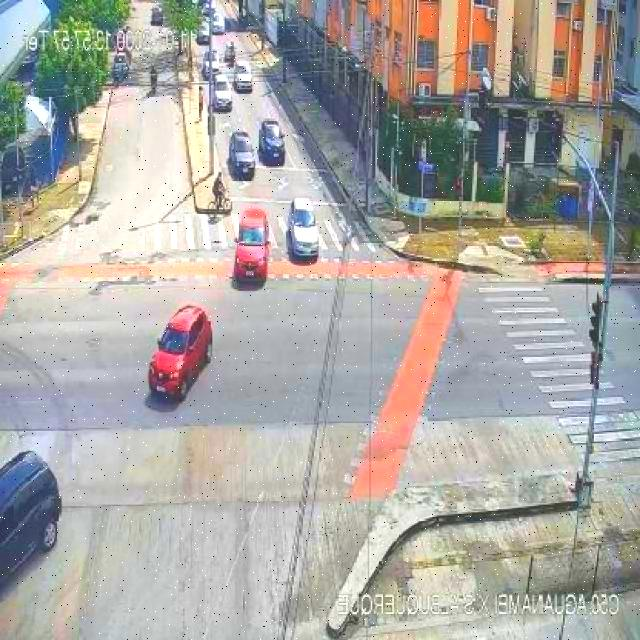Car: (0, 447, 70, 585), (144, 299, 212, 408), (228, 203, 272, 282), (284, 194, 322, 269), (226, 130, 257, 179), (258, 119, 287, 166), (213, 74, 234, 115), (233, 62, 254, 94)
